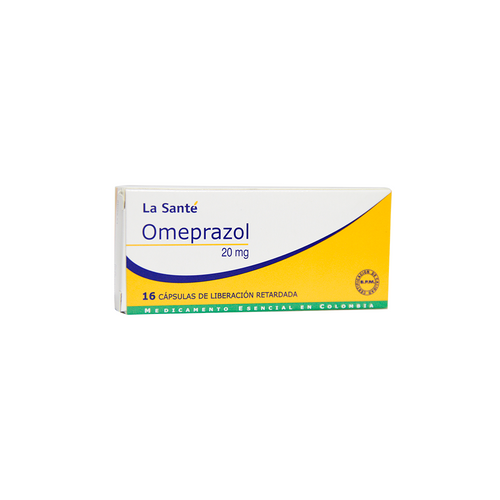LaSante: (126, 188, 391, 313)
